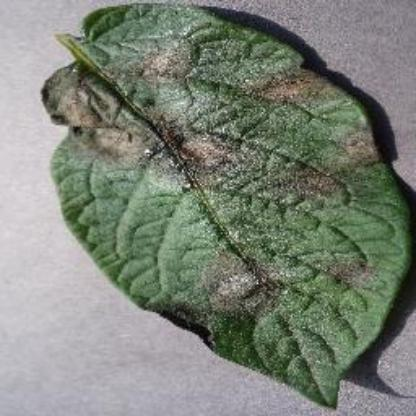Late-Blight: (30, 7, 406, 379)
